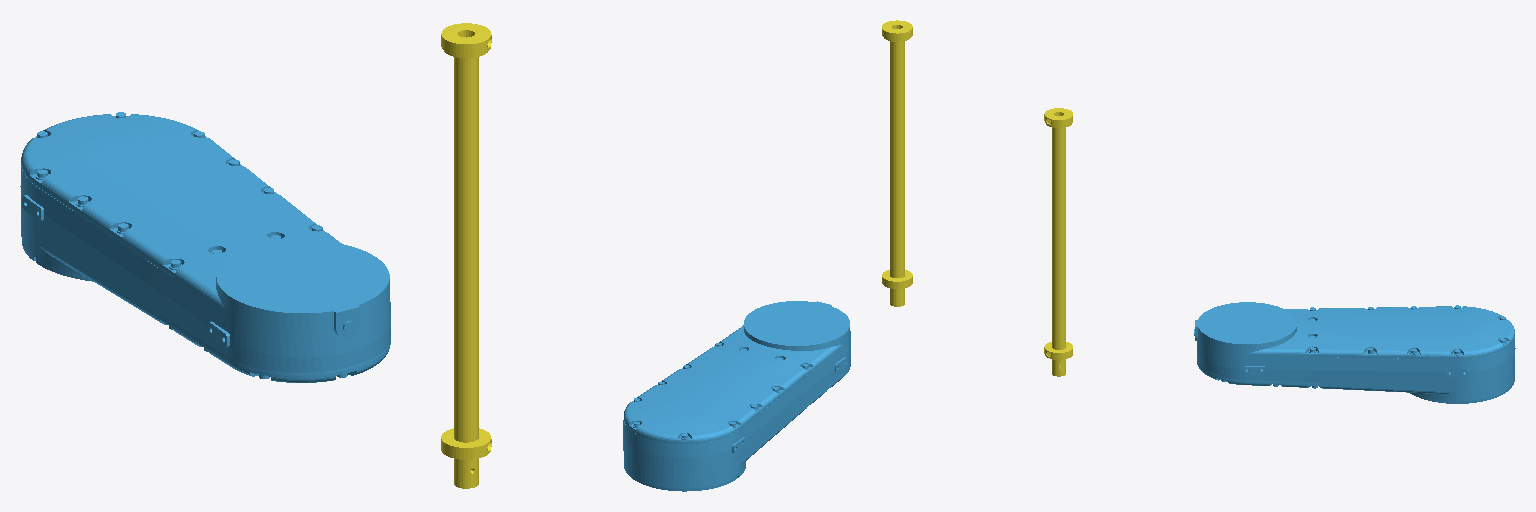
robot.urdf — ABB_IRB920_6kg_550_180_STD:
<?xml version="1.0" ?>
<robot name="ABB_IRB920_6kg_550_180_STD">

  <link name="base_link">
    <inertial>
      <origin xyz="-0.027673827537510368 -0.0026803255602852526 0.0942820642453871" rpy="0 0 0"/>
      <mass value="41.12591553669811"/>
      <inertia ixx="0.263418" iyy="0.182723" izz="0.209732" ixy="-5.3e-05" iyz="-0.005906" ixz="2e-06"/>
    </inertial>
    <visual>
      <origin xyz="0 0 0" rpy="0 0 0"/>
      <geometry>
        <mesh filename="meshes/base_link.stl" scale="0.001 0.001 0.001"/>
      </geometry>
      <material name="silver"/>
    </visual>
    <collision>
      <origin xyz="0 0 0" rpy="0 0 0"/>
      <geometry>
        <mesh filename="meshes/base_link.stl" scale="0.001 0.001 0.001"/>
      </geometry>
    </collision>
    </link>

  <link name="link1_1">
    <inertial>
      <origin xyz="1.2846441569625e-05 -0.1256487711413173 0.04572951271247738" rpy="0 0 0"/>
      <mass value="32.62635723576266"/>
      <inertia ixx="0.484729" iyy="0.06875" izz="0.525248" ixy="-1.7e-05" iyz="0.020761" ixz="1.5e-05"/>
    </inertial>
    <visual>
      <origin xyz="0.027677 0.027437 -0.1914" rpy="0 0 0"/>
      <geometry>
        <mesh filename="meshes/link1_1.stl" scale="0.001 0.001 0.001"/>
      </geometry>
      <material name="silver"/>
    </visual>
    <collision>
      <origin xyz="0.027677 0.027437 -0.1914" rpy="0 0 0"/>
      <geometry>
        <mesh filename="meshes/link1_1.stl" scale="0.001 0.001 0.001"/>
      </geometry>
    </collision>
    </link>

  <link name="link2_1">
    <inertial>
      <origin xyz="2.9556487467982673e-06 -0.09936803691337931 0.0836813784830957" rpy="0 0 0"/>
      <mass value="75.77408460894007"/>
      <inertia ixx="1.206999" iyy="0.309324" izz="1.132456" ixy="-1.3e-05" iyz="-0.072376" ixz="1.8e-05"/>
    </inertial>
    <visual>
      <origin xyz="0.027677 0.317437 -0.2774" rpy="0 0 0"/>
      <geometry>
        <mesh filename="meshes/link2_1.stl" scale="0.001 0.001 0.001"/>
      </geometry>
      <material name="silver"/>
    </visual>
    <collision>
      <origin xyz="0.027677 0.317437 -0.2774" rpy="0 0 0"/>
      <geometry>
        <mesh filename="meshes/link2_1.stl" scale="0.001 0.001 0.001"/>
      </geometry>
    </collision>
    </link>

  <link name="link3_1">
    <inertial>
      <origin xyz="-7.441273095156603e-05 7.513882589227361e-05 0.16549531801456774" rpy="0 0 0"/>
      <mass value="0.6594614836495646"/>
      <inertia ixx="0.011651" iyy="0.011651" izz="7.7e-05" ixy="-1e-06" iyz="-1e-06" ixz="-0.0"/>
    </inertial>
    <visual>
      <origin xyz="0.027677 0.577437 -0.2414" rpy="0 0 0"/>
      <geometry>
        <mesh filename="meshes/link3_1.stl" scale="0.001 0.001 0.001"/>
      </geometry>
      <material name="silver"/>
    </visual>
    <collision>
      <origin xyz="0.027677 0.577437 -0.2414" rpy="0 0 0"/>
      <geometry>
        <mesh filename="meshes/link3_1.stl" scale="0.001 0.001 0.001"/>
      </geometry>
    </collision>
    </link>

  <joint name="Revolute 5" type="continuous">
    <origin xyz="-0.027677 -0.027437 0.1914" rpy="0 0 0"/>
    <parent link="base_link"/>
    <child link="link1_1"/>
    <axis xyz="0.0 0.0 1.0"/>
    </joint>

  <joint name="Revolute 6" type="continuous">
    <origin xyz="0.0 -0.29 0.086" rpy="0 0 0"/>
    <parent link="link1_1"/>
    <child link="link2_1"/>
    <axis xyz="-0.0 0.0 1.0"/>
    </joint>

  <joint name="Slider 7" type="prismatic">
    <origin xyz="0.0 -0.26 -0.036" rpy="0 0 0"/>
    <parent link="link2_1"/>
    <child link="link3_1"/>
    <axis xyz="-0.0 -0.0 -1.0"/>
    <limit upper="0.0" lower="100.0" effort="100" velocity="100"/>
    </joint>

</robot>

--- What the picture shows (computed from the rendered views, not written in the file) ---
Views: 3 orthographic renders of the robot side by side, from view 1: azimuth 30°, elevation 25°; view 2: azimuth 150°, elevation 25°; view 3: azimuth 270°, elevation 25°.
Model ABB_IRB920_6kg_550_180_STD with 4 links and 3 joints (2 continuous, 1 prismatic), rooted at base_link, posed every joint at zero.
Visible links, largest first — view 1: link1_1, link3_1; view 2: link1_1, link3_1; view 3: link1_1, link3_1.
Link boxes in pixels (x1,y1,x2,y2): link1_1: (20, 112, 390, 382); link3_1: (441, 23, 491, 488); link1_1: (623, 301, 850, 491); link3_1: (882, 20, 912, 306); link1_1: (1194, 302, 1515, 403); link3_1: (1044, 108, 1072, 376).
Bounding box of the posed robot: 0.164 × 0.65 × 0.4045 m (x, y, z).
2 mesh visuals loaded from 4 distinct referenced files (2 binary STL); not drawn: 2 (reference not matched to a file when rendering).